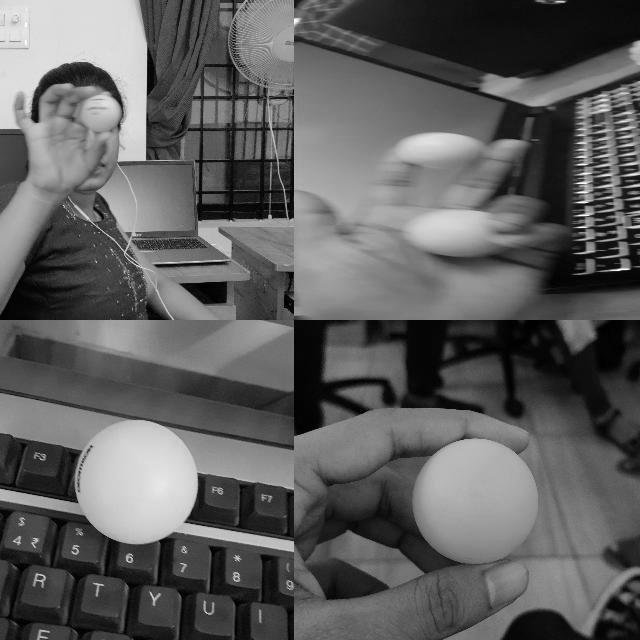ping-pong-ball: (407, 438, 537, 564), (75, 416, 198, 542), (405, 208, 507, 258), (398, 132, 488, 168), (82, 96, 120, 130)
